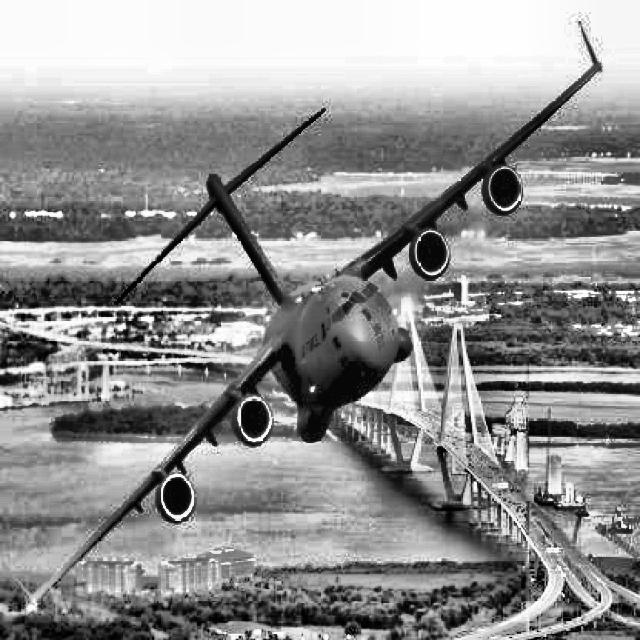C17: (3, 20, 603, 605)
